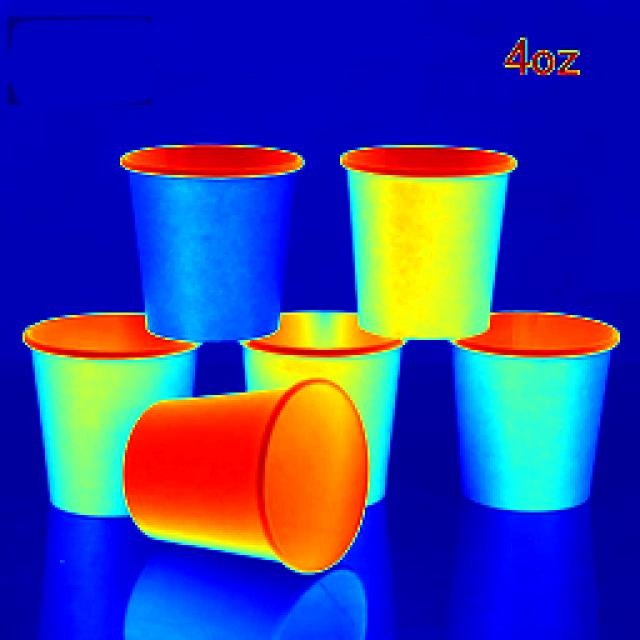Paper Cups: (442, 284, 614, 530), (132, 134, 302, 346), (158, 383, 338, 572), (325, 141, 507, 323), (38, 293, 187, 511), (242, 312, 404, 491)
